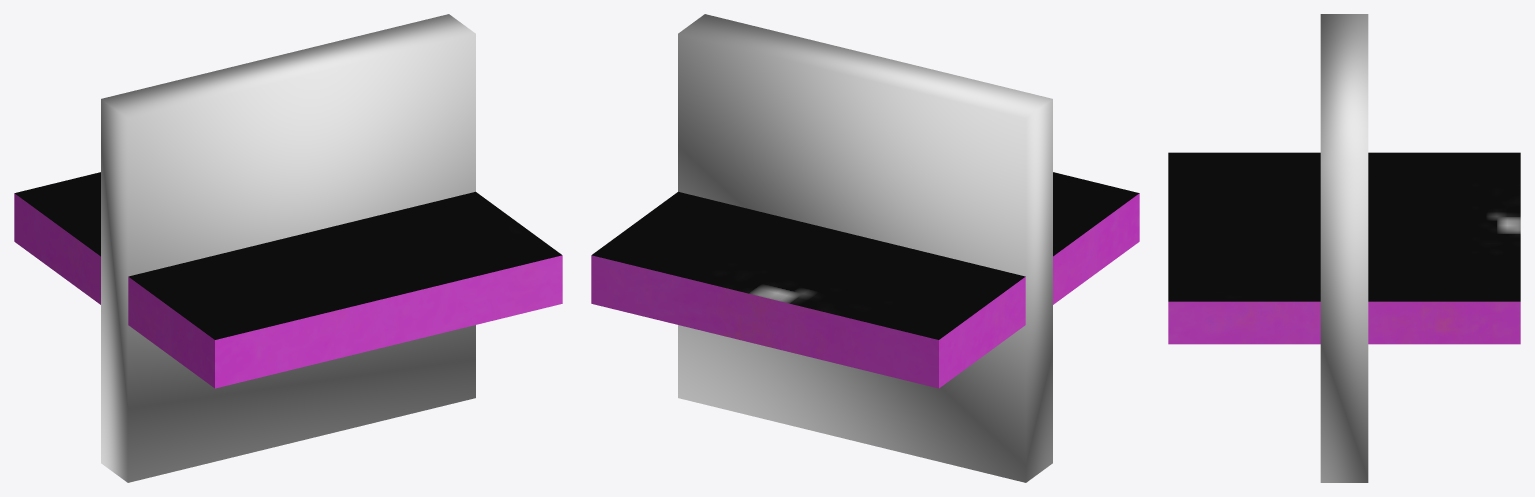
Rendered from SM_Floor_Ceiling_Small.fbx.
3 views of the same model, side by side, from view 1: azimuth 30°, elevation 25°; view 2: azimuth 150°, elevation 25°; view 3: azimuth 270°, elevation 25° (orthographic). The views are drawn at different scales.
Visible parts, largest first — view 1: SM_Floor_Ceiling_Small_ConvexHulls, SM_Floor_Ceiling_Small; view 2: SM_Floor_Ceiling_Small_ConvexHulls, SM_Floor_Ceiling_Small; view 3: SM_Floor_Ceiling_Small, SM_Floor_Ceiling_Small_ConvexHulls.
Boxes of the visible parts, x1,y1,x2,y2 form: SM_Floor_Ceiling_Small_ConvexHulls: (101, 14, 475, 482); SM_Floor_Ceiling_Small: (14, 172, 562, 388); SM_Floor_Ceiling_Small_ConvexHulls: (678, 14, 1052, 482); SM_Floor_Ceiling_Small: (591, 172, 1139, 388); SM_Floor_Ceiling_Small: (1168, 152, 1520, 344); SM_Floor_Ceiling_Small_ConvexHulls: (1320, 14, 1368, 482).
Bounding box in the file's own units: 1.5 × 1.5 × 1.5.
